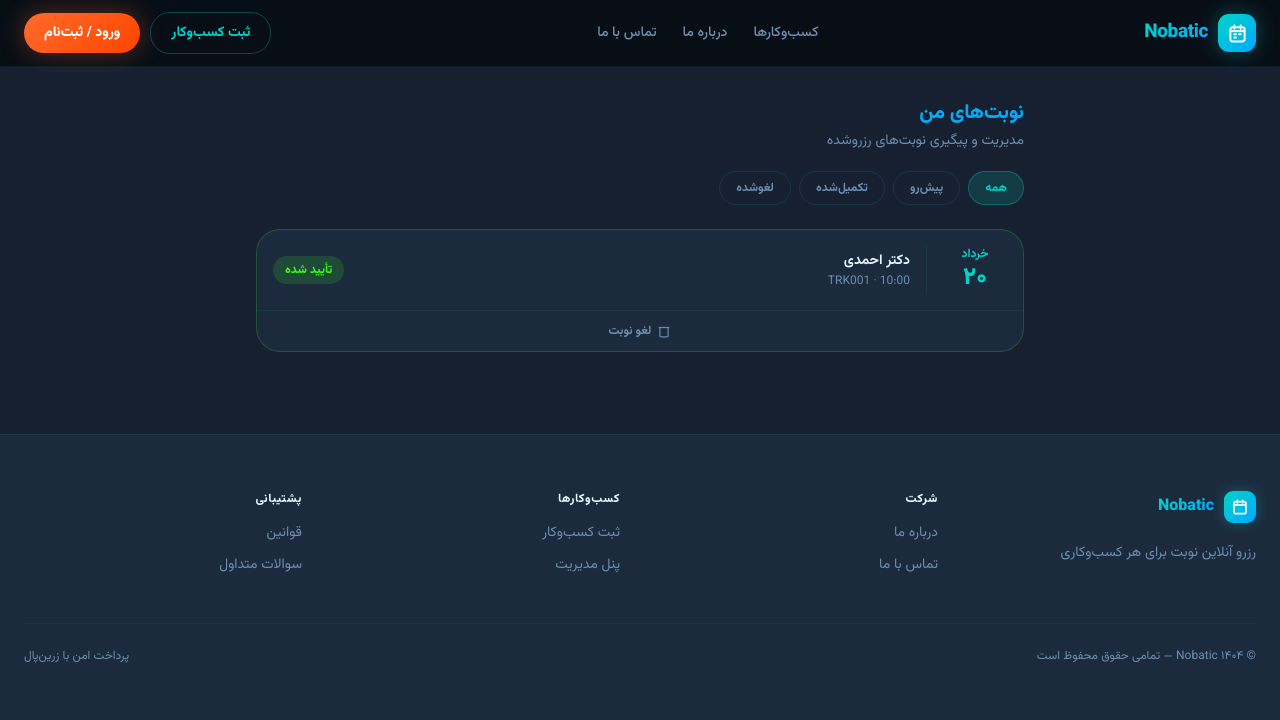
Test: MyAppointmentsPage › opens confirmation dialog on cancel click
The image size is (1280, 720).
Click the button "لغو نوبت" at (640, 331), box [257,311,1023,351]
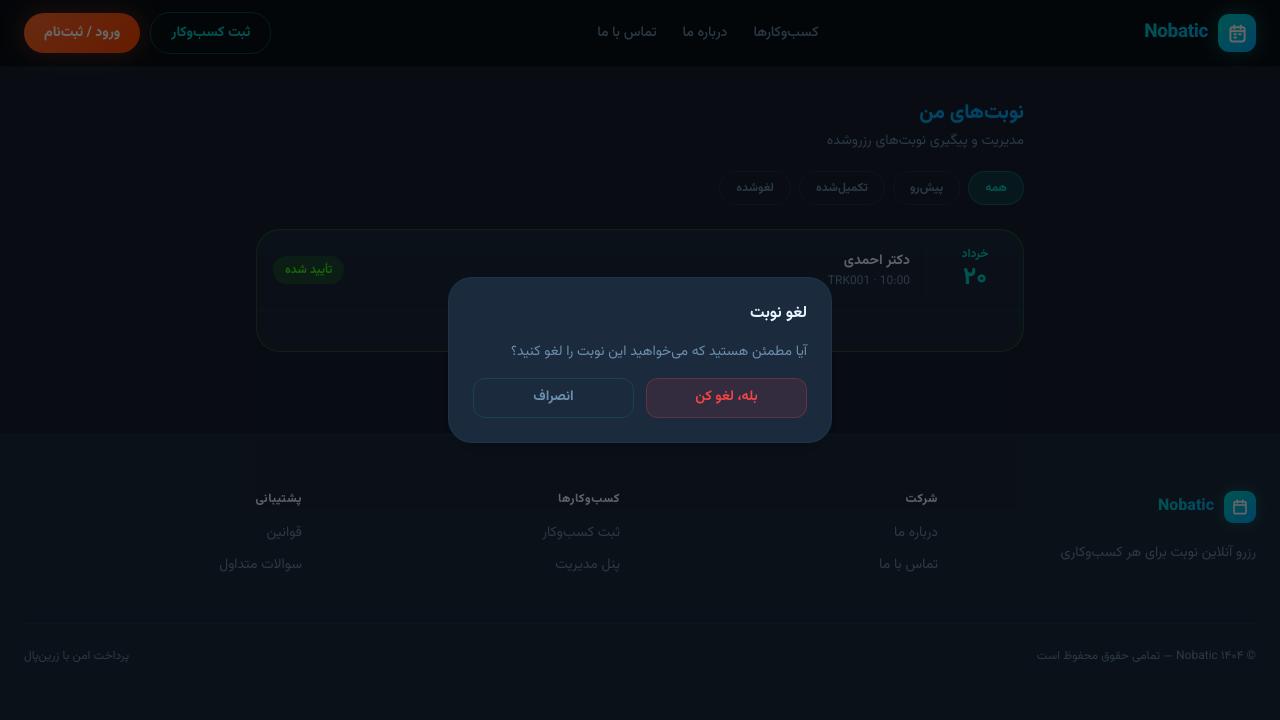
expect the dialog is shown: met
expect the text "آیا مطمئن هستید که می‌خواهید این نوبت را لغو کنید؟" is shown: met, box [473,342,807,362]
